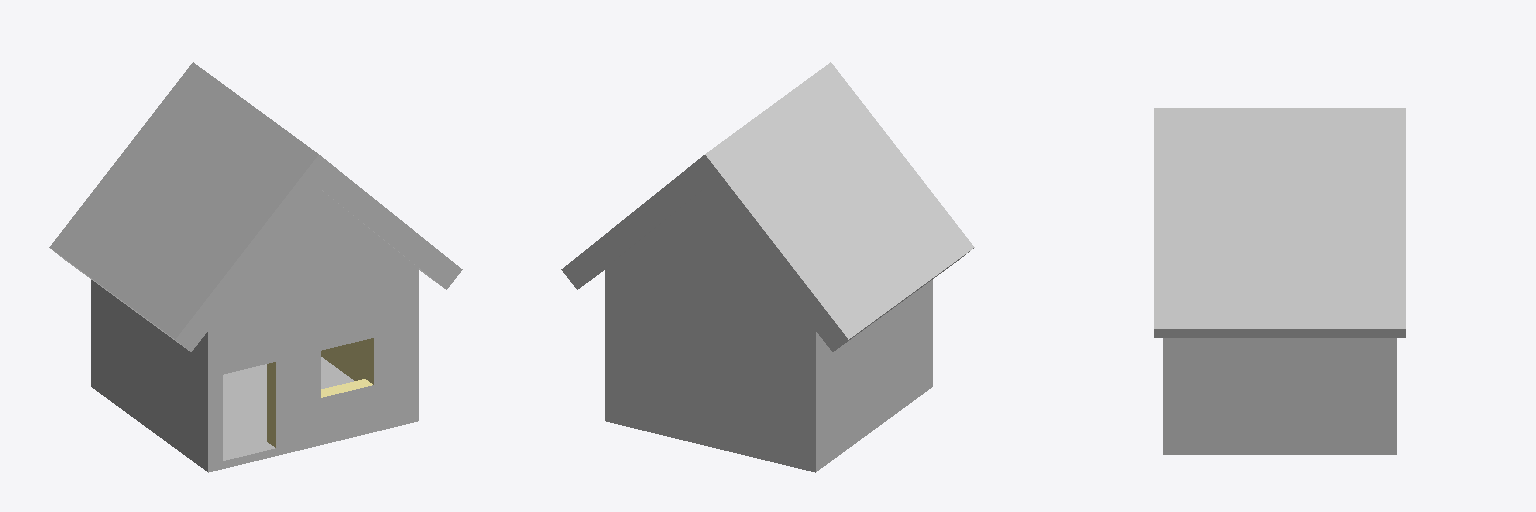
The picture shows the model from 3 angles: view 1: azimuth 30°, elevation 25°; view 2: azimuth 150°, elevation 25°; view 3: azimuth 270°, elevation 25°; orthographic projection.
Parts seen in each view (by area): view 1: cube; view 2: cube; view 3: cube.
Boxes of the visible parts, <box> form: cube: <box>49,62,462,472</box>; cube: <box>561,62,974,472</box>; cube: <box>1154,108,1405,454</box>.
Size of the model in its own units: 2.39 by 2.35 by 1.81.
Materials: 3 (1 with a texture image).